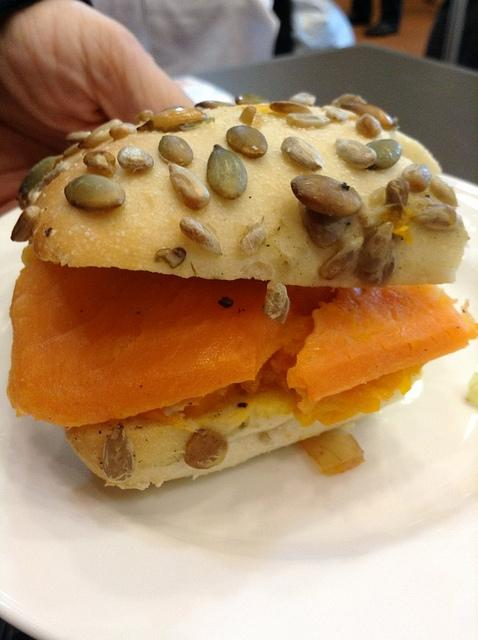onion: (294, 429, 364, 476), (101, 422, 136, 482), (262, 281, 291, 325)
